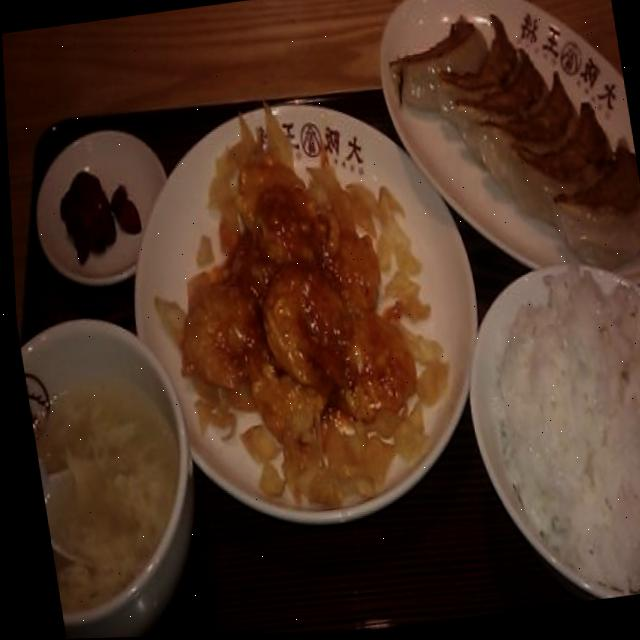带馅早点: (357, 0, 640, 327)
汤锅炖物: (12, 299, 197, 625)
熟制海鲜: (93, 68, 517, 568)
米饭主食: (443, 257, 640, 616)
